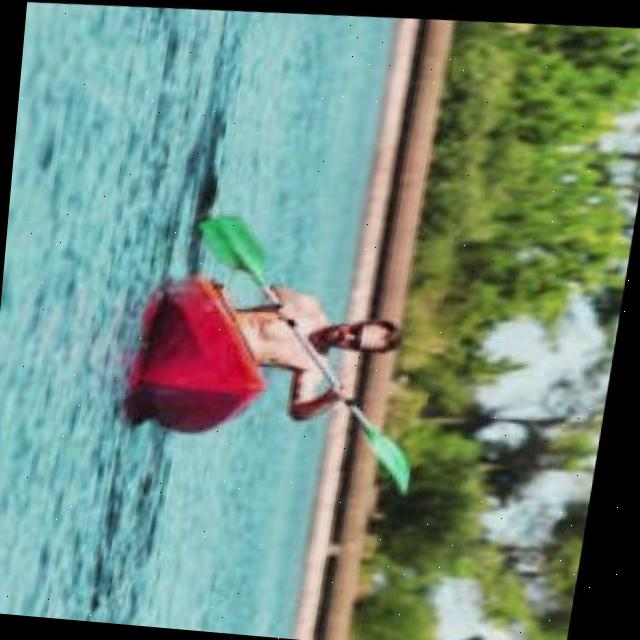kayak: (143, 274, 274, 429)
